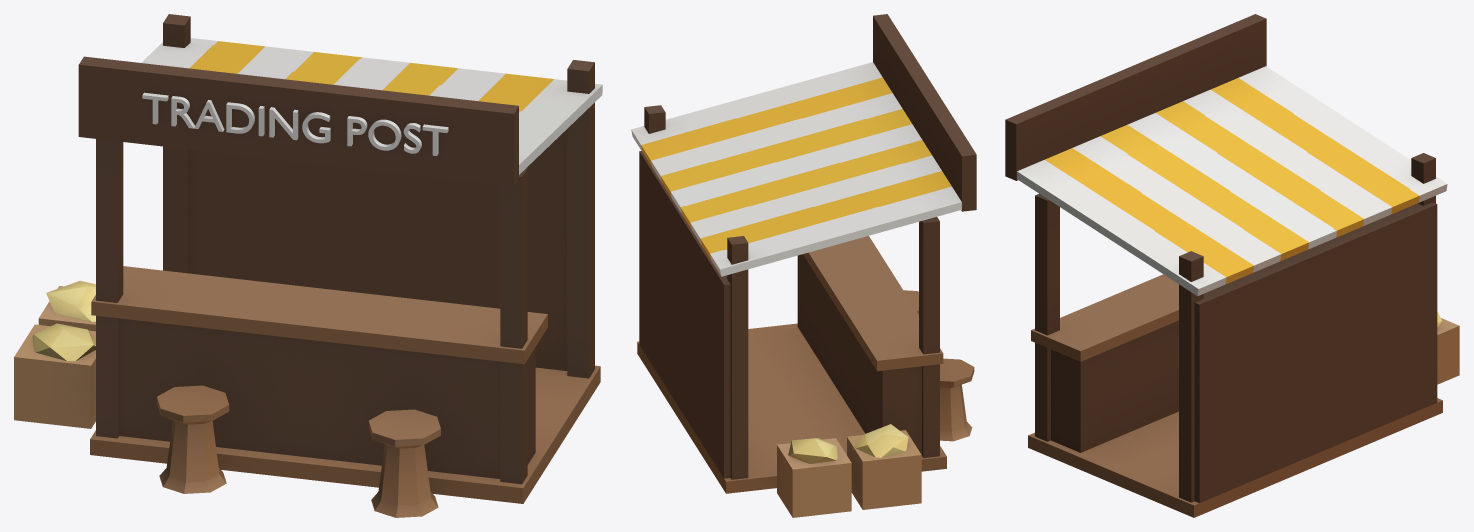
File: hub_trading.fbx
The picture shows the model from 3 angles, left to right: view 1: azimuth 30°, elevation 25°; view 2: azimuth 150°, elevation 25°; view 3: azimuth 270°, elevation 25°; orthographic projection. The views are drawn at different scales.
Parts seen in each view (by area): view 1: hub_trading_body; view 2: hub_trading_body; view 3: hub_trading_body.
Boxes of the visible parts, x1=… form: hub_trading_body: x1=14, y1=14, x2=602, y2=517; hub_trading_body: x1=631, y1=14, x2=976, y2=517; hub_trading_body: x1=1005, y1=14, x2=1459, y2=517.
Size of the model in its own units: 1130 by 900 by 1161.
1 material, 1 textured.
